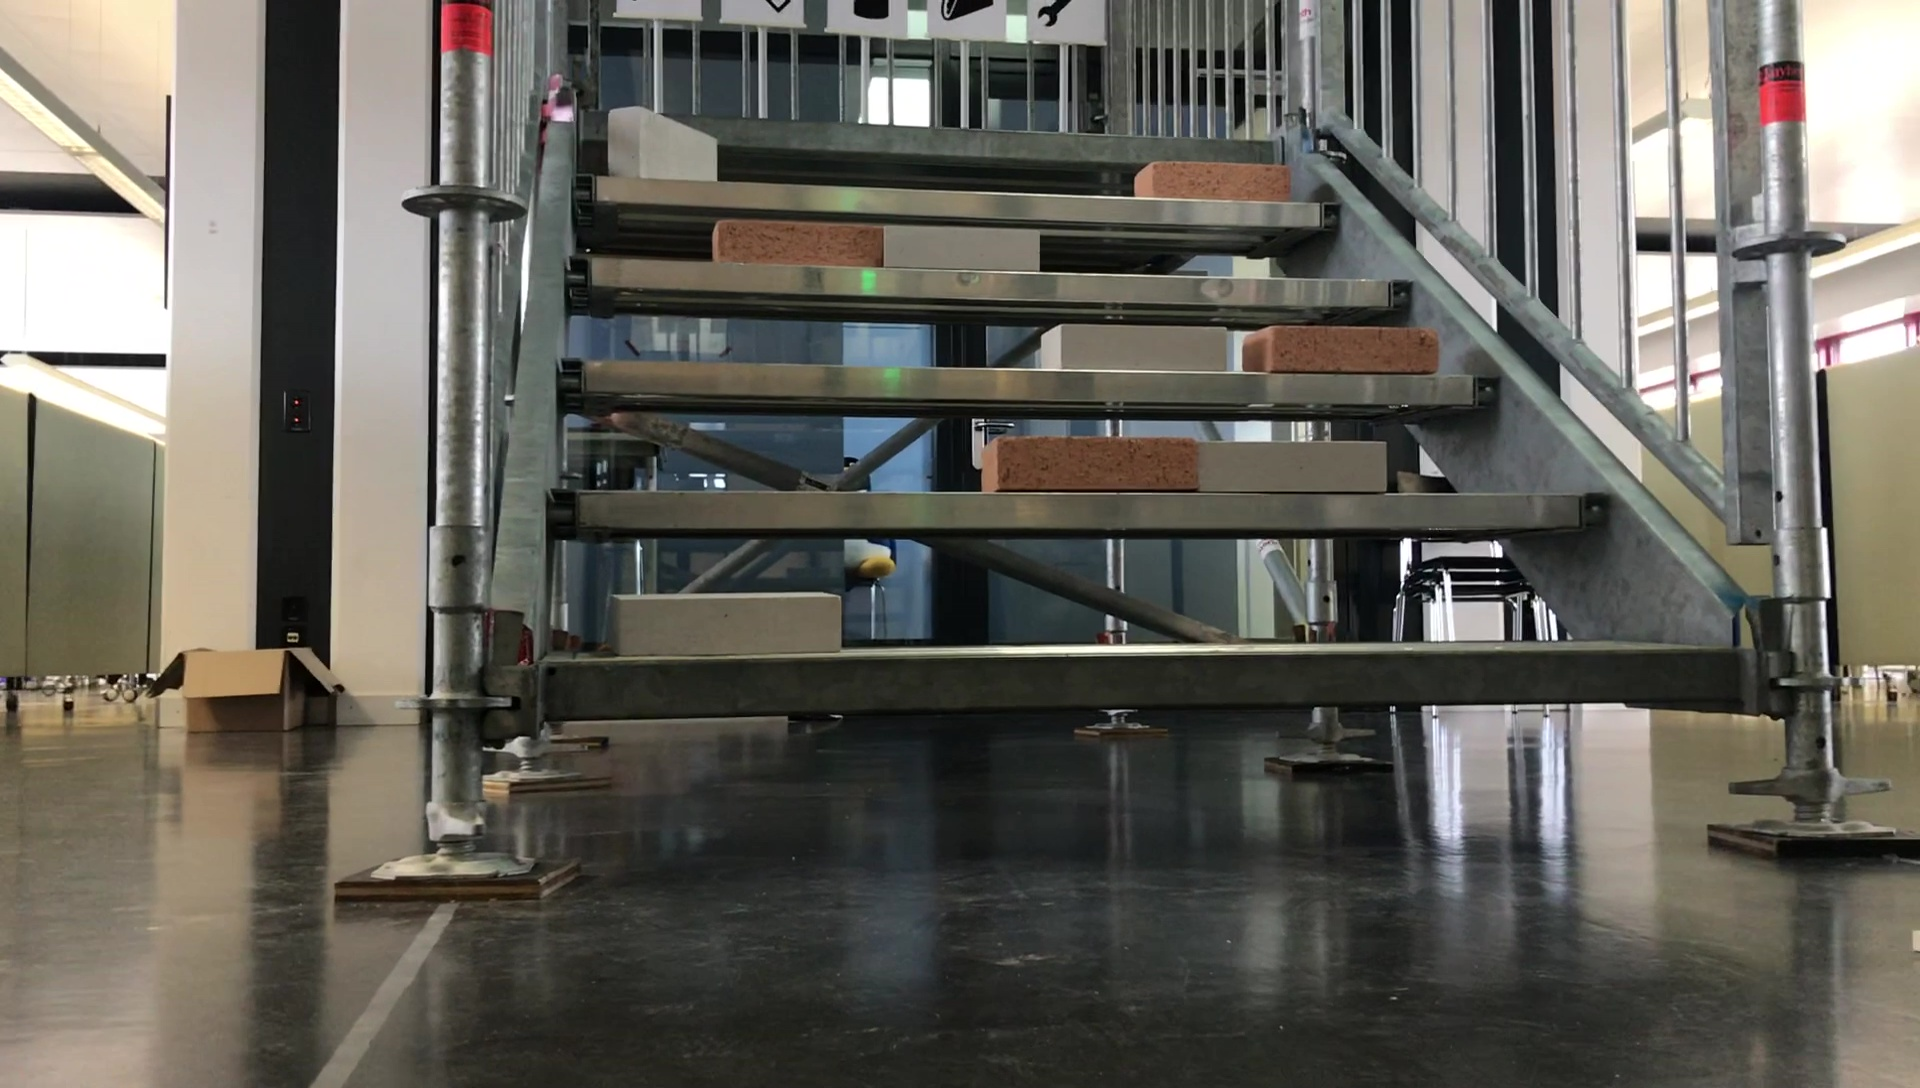brick: (611, 578, 837, 655), (964, 429, 1200, 481), (1187, 437, 1391, 491), (1240, 322, 1448, 375), (587, 102, 724, 179), (1038, 324, 1232, 367), (880, 222, 1038, 270), (1129, 161, 1302, 196), (709, 224, 882, 258)
edge: (535, 641, 1747, 713), (567, 359, 1506, 411), (549, 479, 1615, 522), (564, 190, 1346, 235), (576, 268, 1415, 302), (591, 121, 1284, 149)
stairs: (414, 0, 1838, 839)
steps: (401, 109, 1791, 727)
